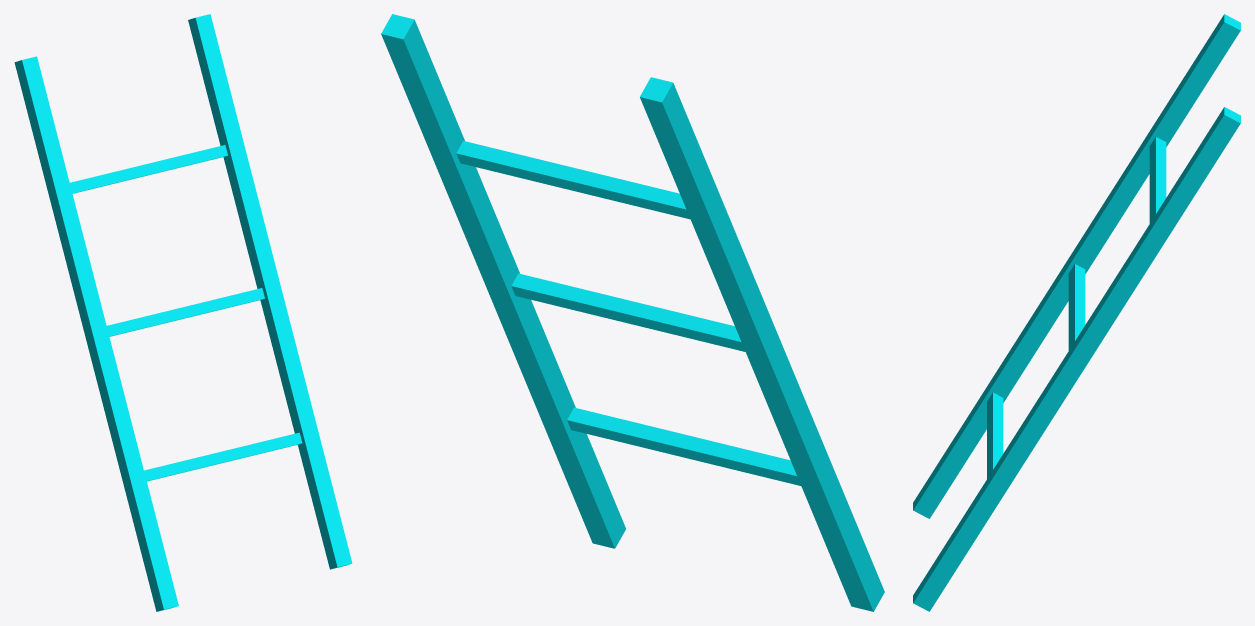
The model's file is Building_014_e.fbx.
3 renders of one model, left to right at view 1: azimuth 30°, elevation 25°; view 2: azimuth 150°, elevation 25°; view 3: azimuth 270°, elevation 25°, orthographic. The views are drawn at different scales.
Parts seen in each view (by area): view 1: Building_014_e; view 2: Building_014_e; view 3: Building_014_e.
Boxes of the visible parts, box(x1,y1,x2,y2) form: Building_014_e: box(14, 14, 352, 611); Building_014_e: box(381, 14, 884, 611); Building_014_e: box(913, 14, 1240, 611).
Size of the model in its own units: 2.52 by 5.78 by 3.46.
